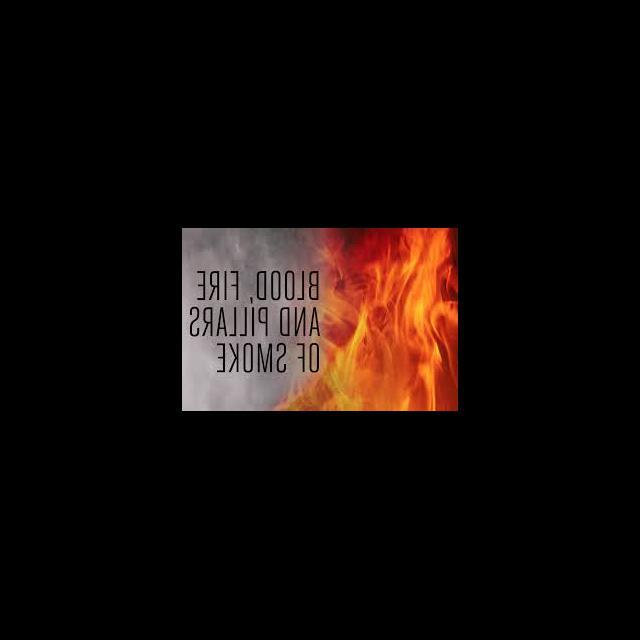Fire: (319, 230, 457, 411)
Smoke: (184, 230, 316, 268), (182, 378, 273, 412)
